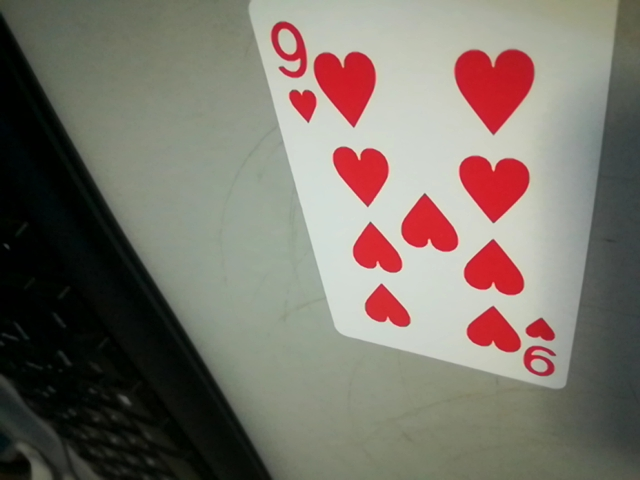hx 9: (516, 315, 571, 383)
